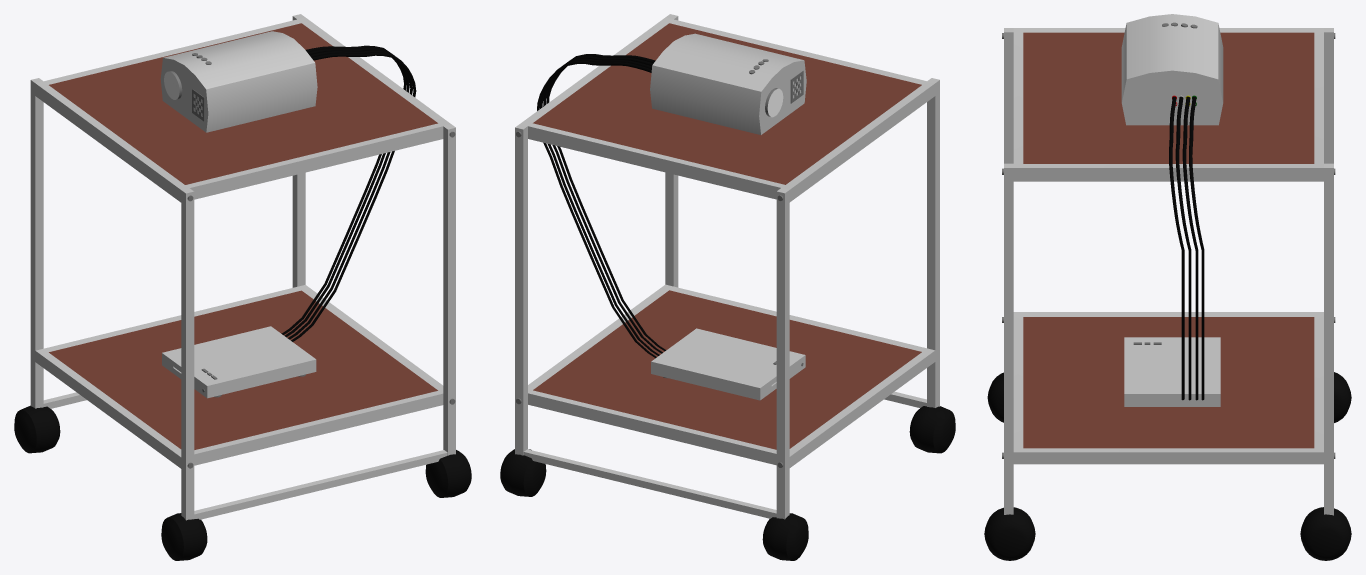
The model's file is wheel_Cart_projector.fbx.
3 views of the same model, side by side, from view 1: azimuth 30°, elevation 25°; view 2: azimuth 150°, elevation 25°; view 3: azimuth 270°, elevation 25° (orthographic). The views are drawn at different scales.
Visible parts, largest first — view 1: Mesh, Mesh (2); view 2: Mesh, Mesh (2); view 3: Mesh, Mesh (2).
Boxes of the visible parts, x1,y1,x2,y2 form: Mesh: (14, 14, 471, 560); Mesh (2): (160, 31, 416, 398); Mesh: (500, 14, 955, 560); Mesh (2): (537, 33, 806, 400); Mesh: (984, 28, 1351, 560); Mesh (2): (1121, 14, 1223, 406).
Bounding box in the file's own units: 58.75 × 72.58 × 54.06.
